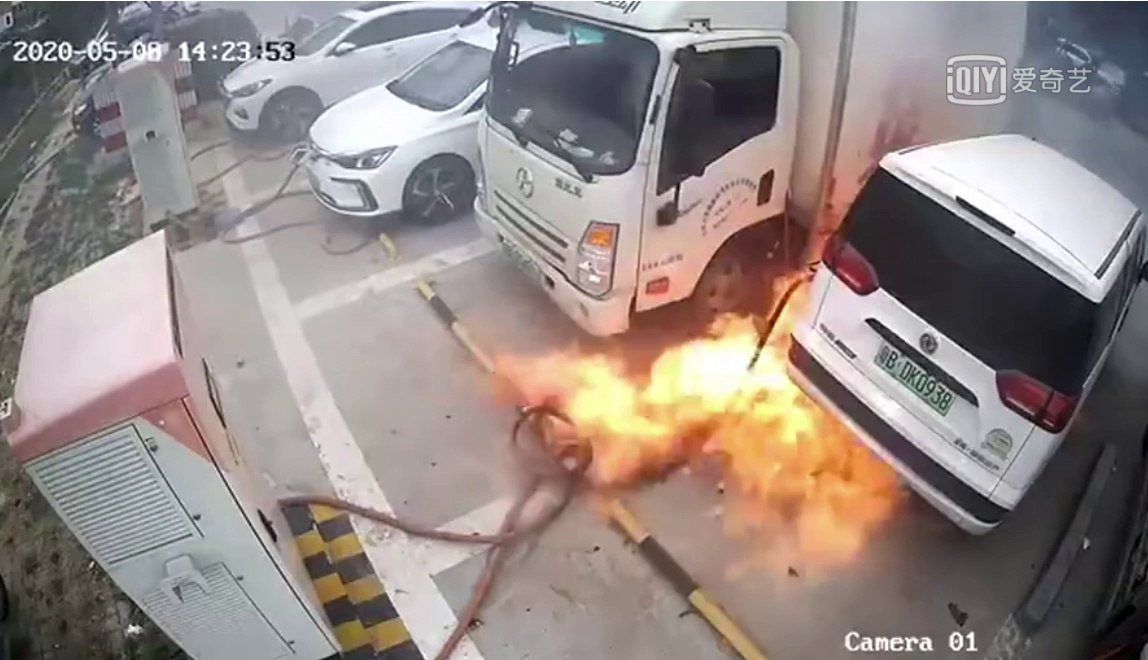fire: (504, 292, 890, 553)
